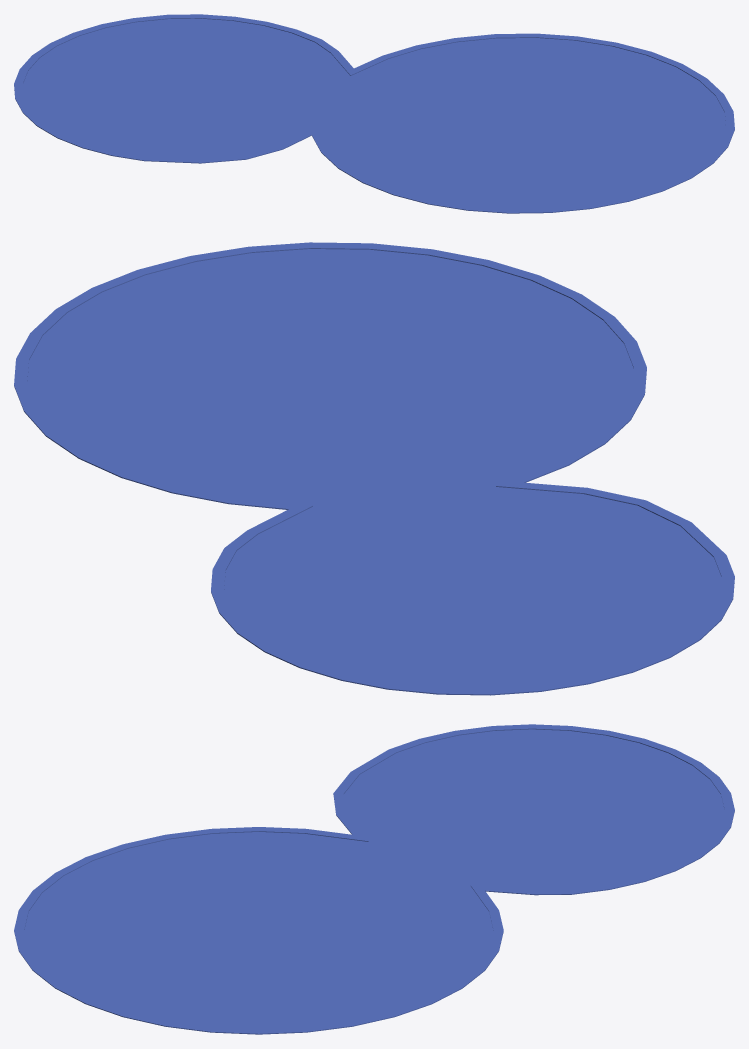
Rendered from WalkingArea.glb.
3 renders of one model, top to bottom at view 1: azimuth 30°, elevation 25°; view 2: azimuth 150°, elevation 25°; view 3: azimuth 270°, elevation 25°, orthographic. The views are drawn at different scales.
Parts seen in each view (by area): view 1: Circle; view 2: Circle; view 3: Circle.
Part boxes in pixels (x1,y1,x2,y2): Circle: (14,14,734,213); Circle: (14,242,734,695); Circle: (14,724,734,1034).
Bounding box in the file's own units: 252 × 0.3298 × 248.
